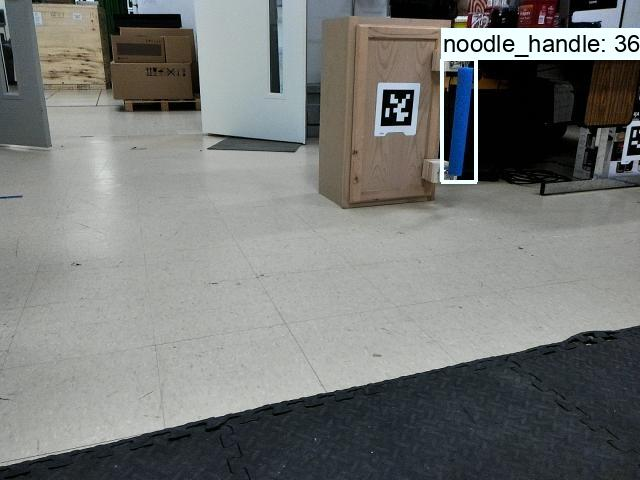noodle_handle: (439, 59, 477, 182)
